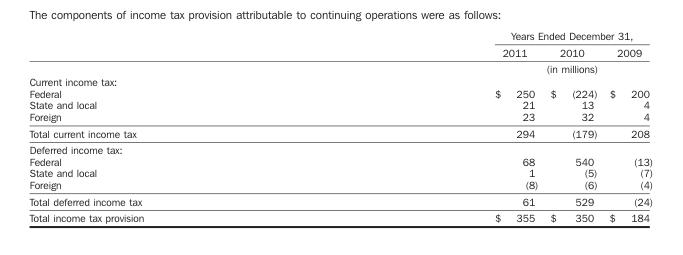table: (28, 28, 652, 223)
table column: (28, 28, 318, 223), (318, 28, 543, 223), (543, 28, 602, 223), (602, 28, 652, 223)
table column header: (28, 28, 652, 75)
table projected row header: (28, 141, 652, 155), (28, 75, 652, 87)
table row: (28, 43, 652, 60), (28, 124, 652, 141), (28, 192, 652, 209), (28, 28, 652, 43), (28, 60, 652, 75), (28, 110, 652, 124), (28, 141, 652, 155), (28, 178, 652, 192), (28, 209, 652, 223), (28, 75, 652, 87), (28, 98, 652, 110), (28, 166, 652, 178), (28, 87, 652, 98), (28, 155, 652, 166)
table spanning cell: (318, 28, 652, 43), (318, 60, 652, 75)
